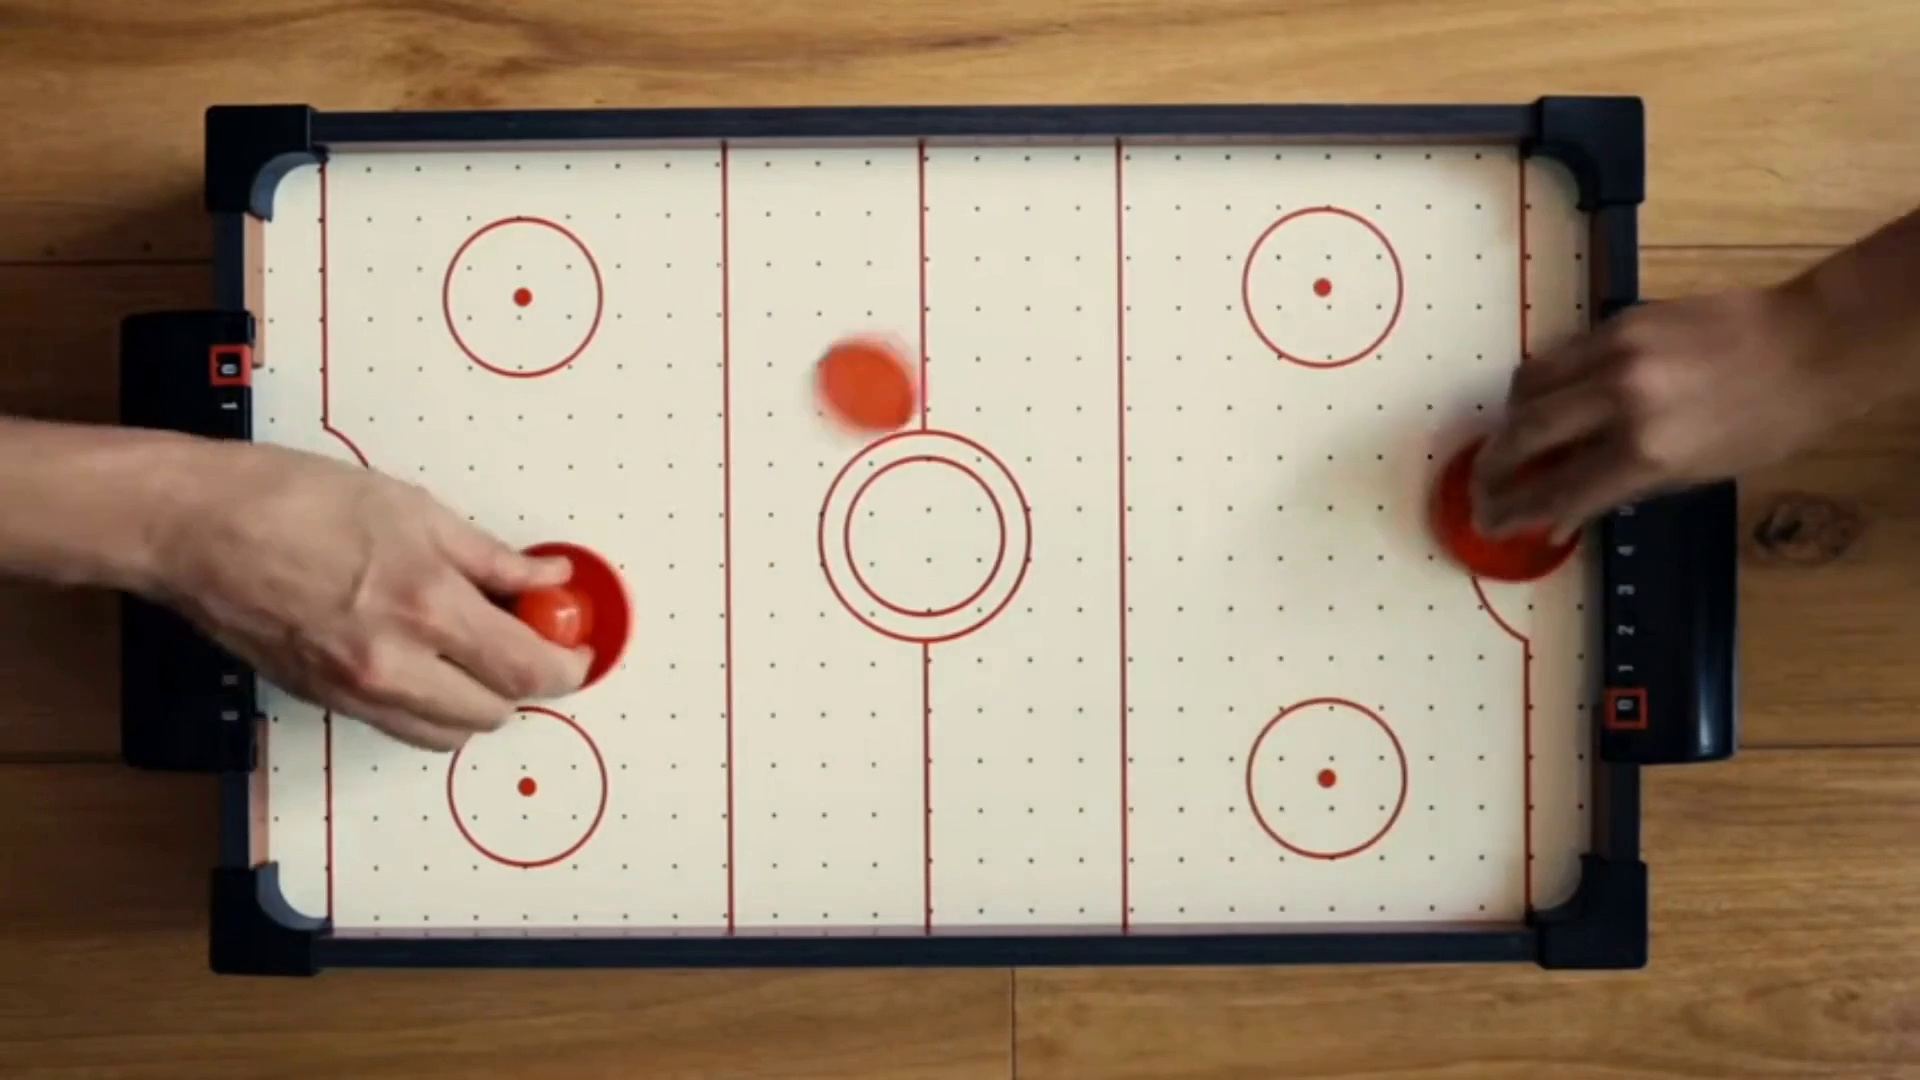player: (1431, 427, 1588, 587), (494, 542, 634, 696)
puck: (811, 330, 916, 439)
table: (242, 145, 1601, 931)
